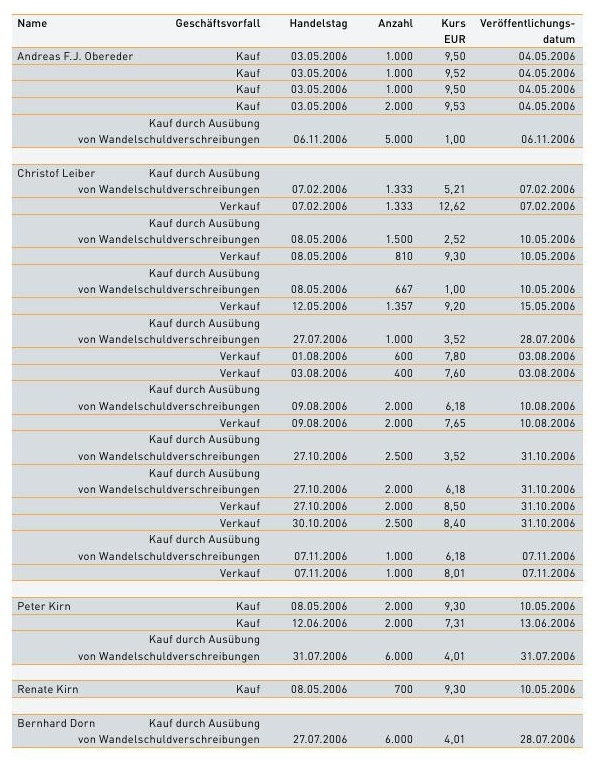table: (0, 0, 593, 760)
